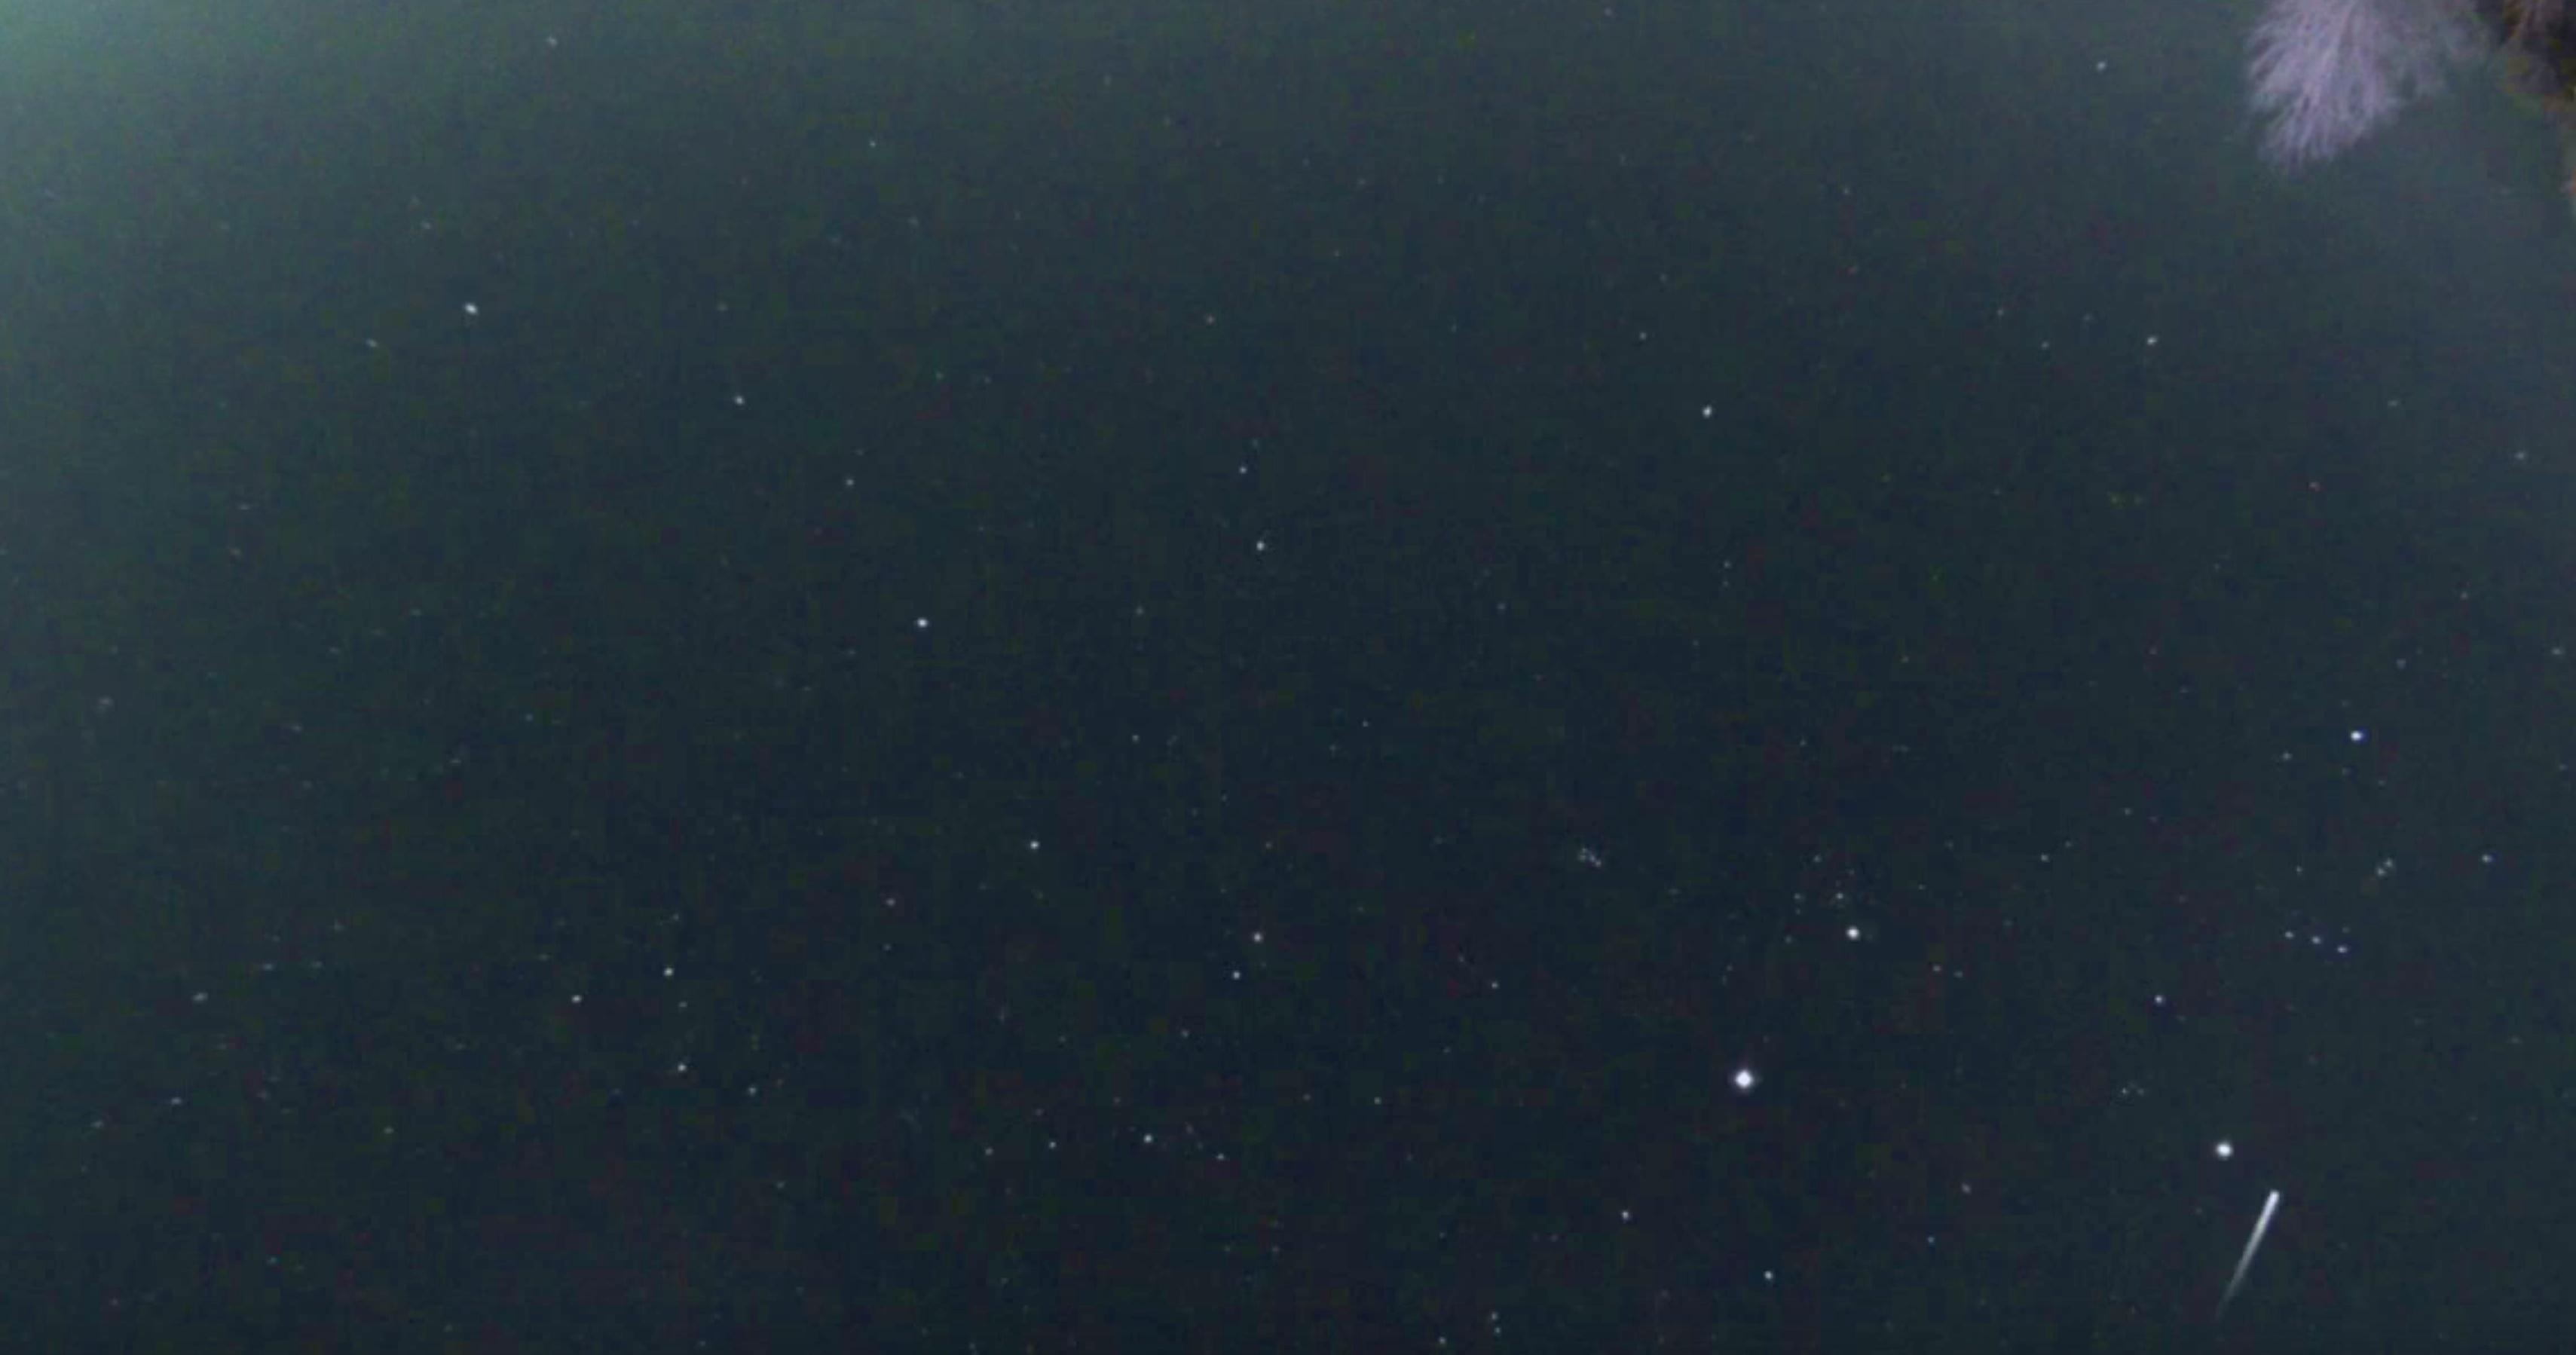meteorite: (2181, 1142, 2329, 1355)
